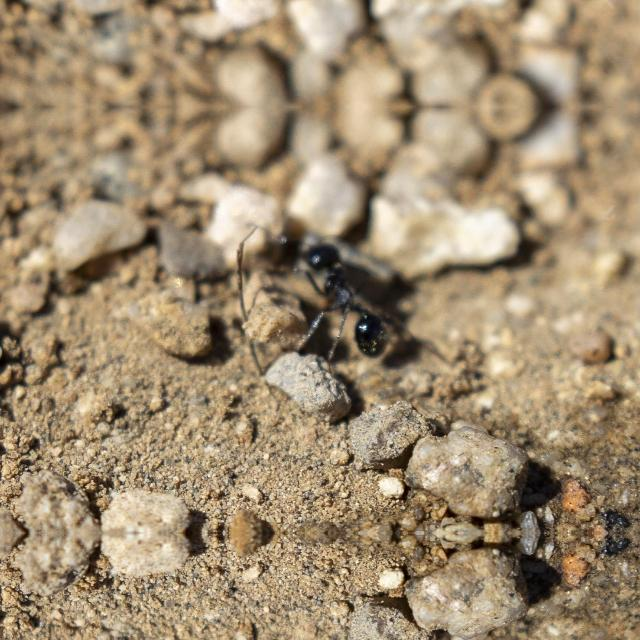Messor: (267, 211, 418, 373)
